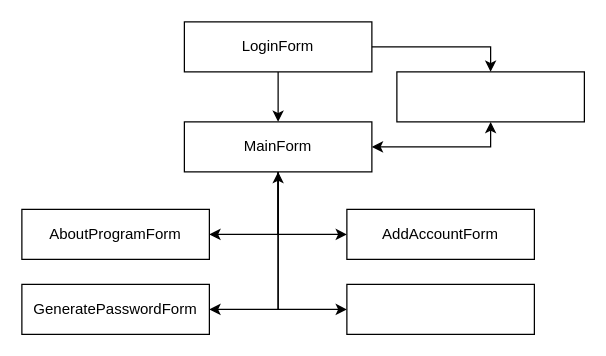
Some shapes in this 606 by 356 pixel diagram are drawn without their labels. Here are the shapes that lost their labels. From the top down, the centre of each, then its label:
At point (490, 96): "NewDbForm".
At point (440, 308): "AddGroupForm".
